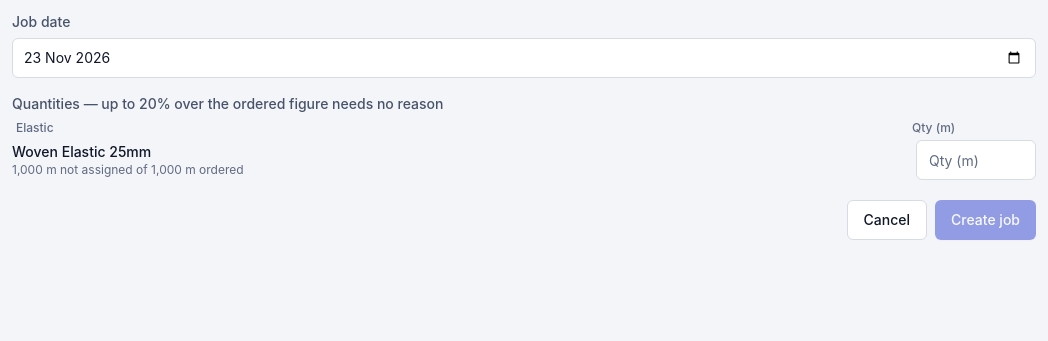
Test: planning inside the allowance › takes 20% over without asking why, but says the yarn will be drawn
Type "1200" into the number field labelled "Qty (m)" at (976, 160), box x1=916 y1=140 x2=1036 y2=180
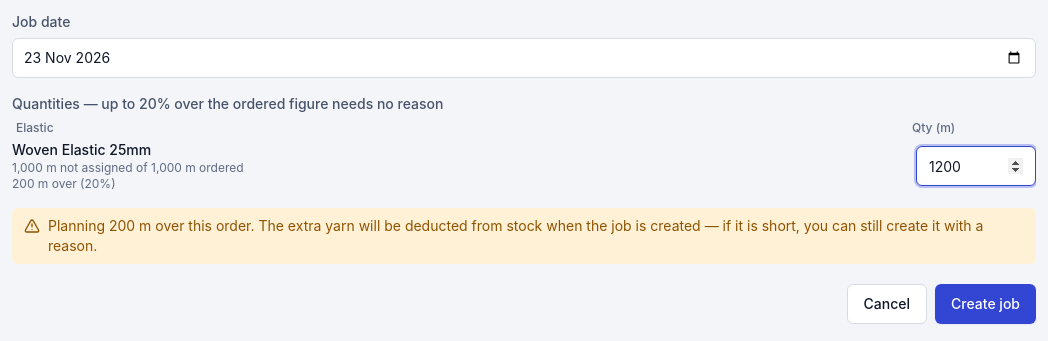
Check: the text "200 m over (20%)" is shown, box x1=12 y1=176 x2=116 y2=191
Check: the text "deducted from stock when the job is created" is shown, box x1=48 y1=217 x2=984 y2=254
Check: the button "Create job" is enabled, box x1=935 y1=284 x2=1036 y2=324
